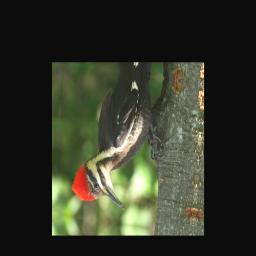Woodpecker: (71, 66, 168, 216)
